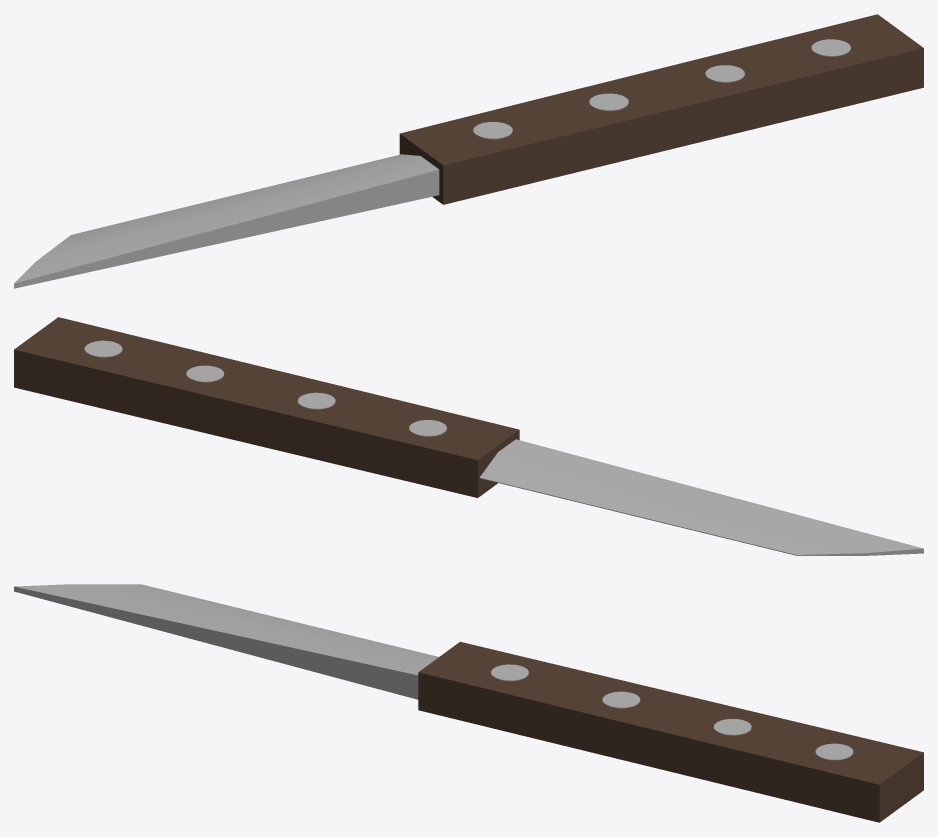
Rendered from Knife1.fbx.
3 views of the same model, one above another, from view 1: azimuth 30°, elevation 25°; view 2: azimuth 150°, elevation 25°; view 3: azimuth 330°, elevation 25° (orthographic). The views are drawn at different scales.
Visible parts, largest first — view 1: pCube2; view 2: pCube2; view 3: pCube2.
Boxes of the visible parts, box(x1,y1,x2,y2) form: pCube2: box(14, 14, 923, 288); pCube2: box(14, 317, 923, 555); pCube2: box(14, 584, 923, 822).
Bounding box in the file's own units: 11.96 × 0.5104 × 1.06.
